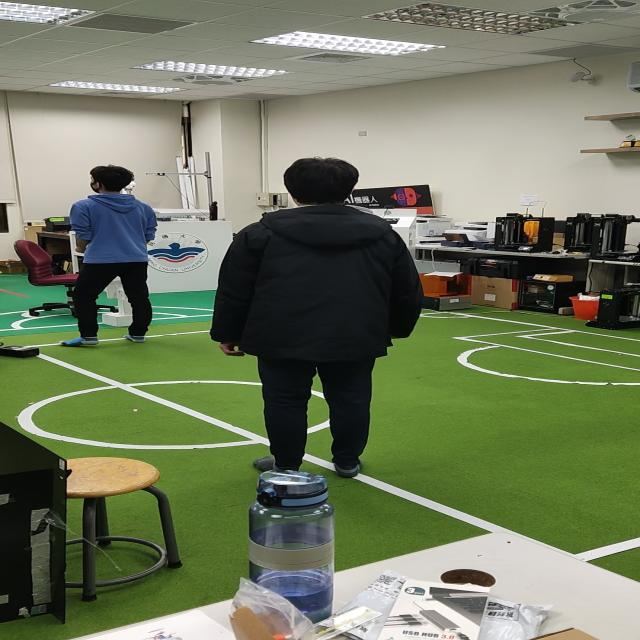person: (198, 143, 428, 458), (32, 152, 172, 349)
